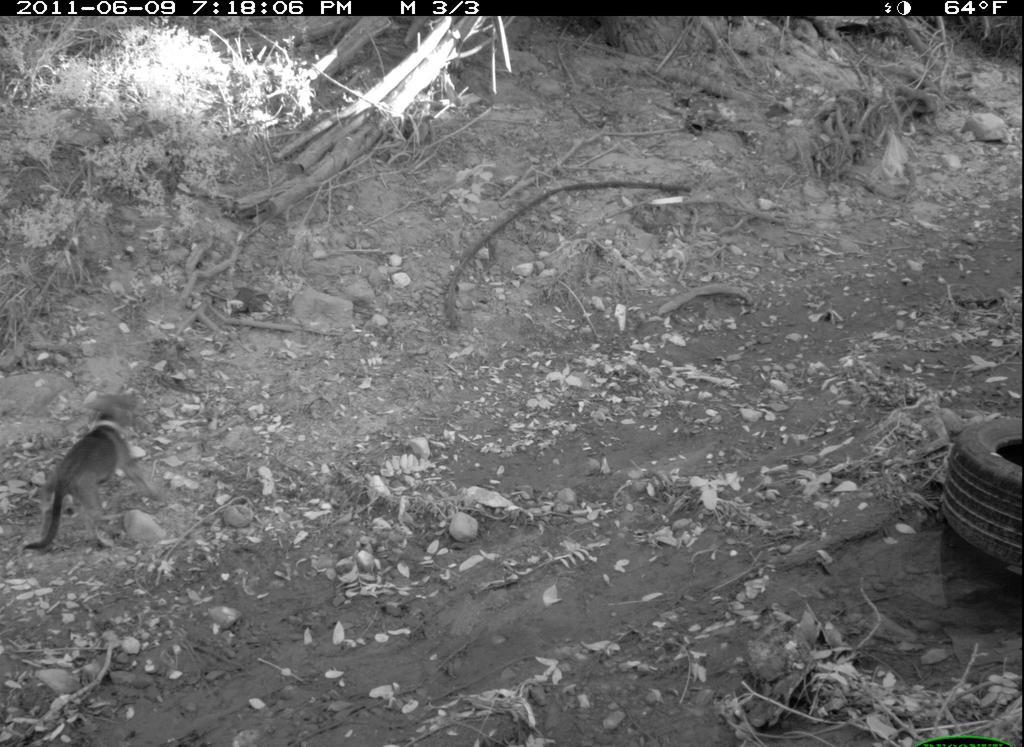dog: (18, 386, 162, 562)
